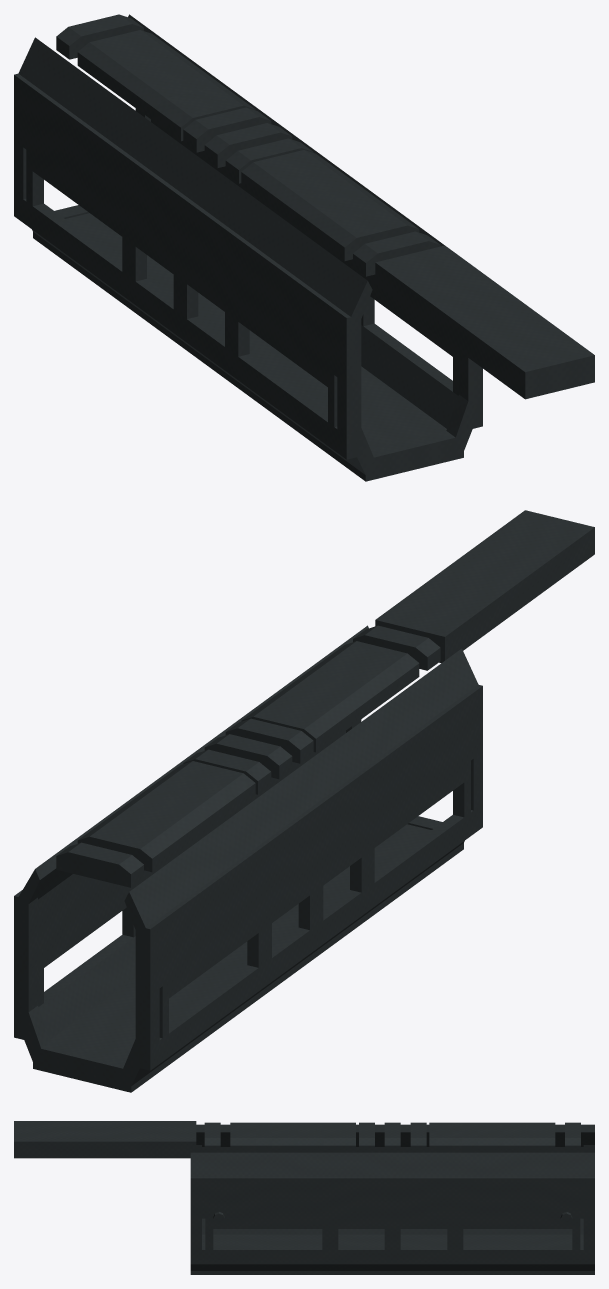
File: aug_rail.glb
3 renders of one model, top to bottom at view 1: azimuth 30°, elevation 25°; view 2: azimuth 150°, elevation 25°; view 3: azimuth 270°, elevation 25°, orthographic. The views are drawn at different scales.
Visible parts, largest first — view 1: handguard__aug_rail_LOD0_RAID_Secondary_Original_steel, handguard__aug_rail_LOD1_RAID_Secondary_Original_steel; view 2: handguard__aug_rail_LOD0_RAID_Secondary_Original_steel, handguard__aug_rail_LOD1_RAID_Secondary_Original_steel; view 3: handguard__aug_rail_LOD0_RAID_Secondary_Original_steel, handguard__aug_rail_LOD1_RAID_Secondary_Original_steel.
Part boxes in pixels (x1,y1,x2,y2): handguard__aug_rail_LOD0_RAID_Secondary_Original_steel: [14, 14, 594, 481]; handguard__aug_rail_LOD1_RAID_Secondary_Original_steel: [28, 35, 454, 448]; handguard__aug_rail_LOD0_RAID_Secondary_Original_steel: [14, 510, 594, 1092]; handguard__aug_rail_LOD1_RAID_Secondary_Original_steel: [38, 645, 470, 1051]; handguard__aug_rail_LOD0_RAID_Secondary_Original_steel: [14, 1121, 594, 1274]; handguard__aug_rail_LOD1_RAID_Secondary_Original_steel: [206, 1122, 578, 1264].
Size of the model in its own units: 0.088 by 0.126 by 0.51.
1 material, 1 textured.
